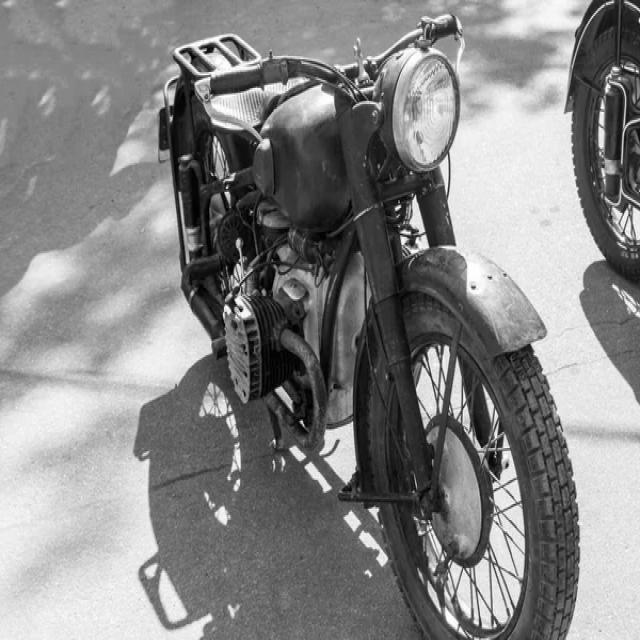Motorcycle: (158, 15, 580, 640)
